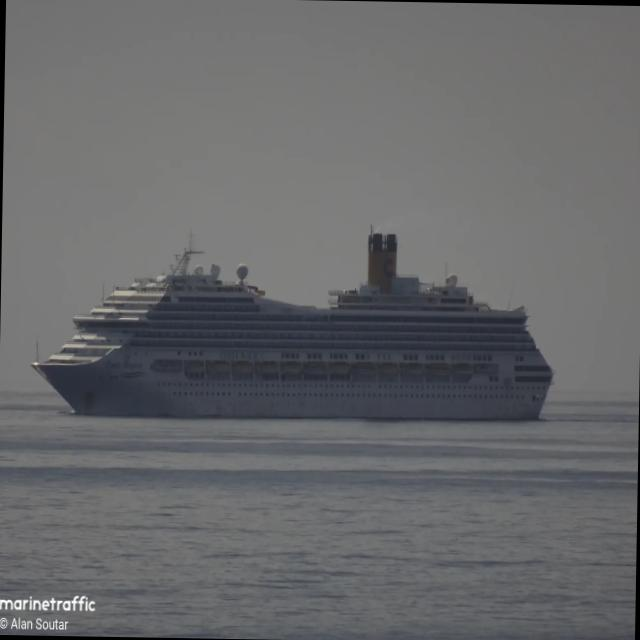Cruise: (32, 232, 553, 420)
